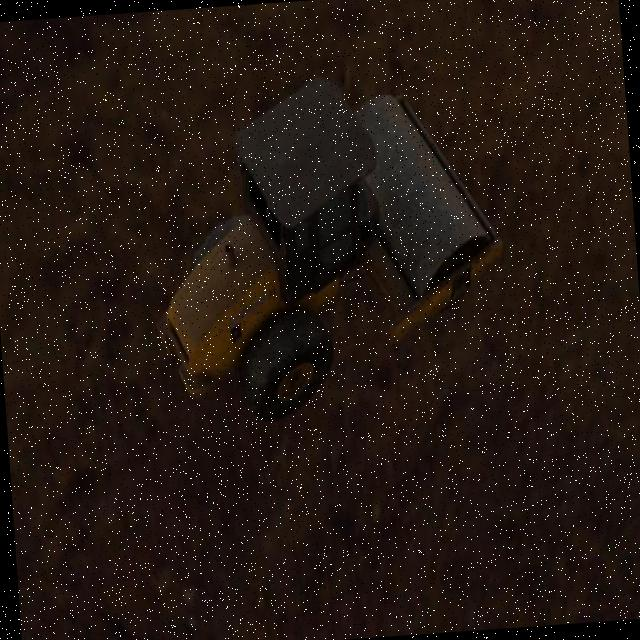Roller: (140, 62, 514, 430)
